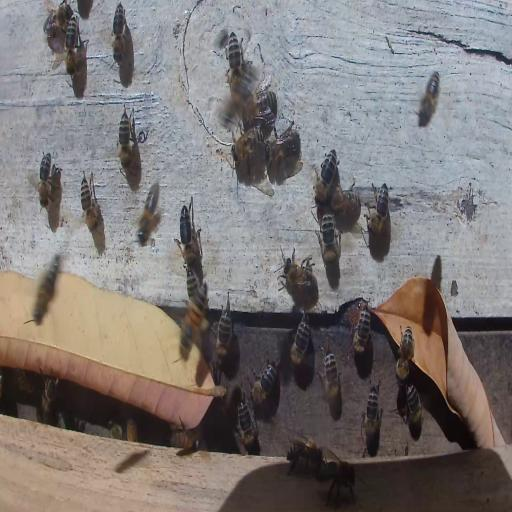nonpollenbee: (250, 346, 281, 408), (321, 455, 360, 504), (285, 431, 321, 476), (177, 202, 200, 270), (239, 86, 278, 126), (266, 127, 301, 169), (234, 398, 260, 454), (316, 210, 340, 270), (80, 171, 102, 236), (280, 258, 317, 296), (313, 150, 338, 203), (366, 181, 390, 236), (418, 70, 440, 125), (362, 384, 382, 444), (322, 347, 342, 407), (350, 304, 373, 354), (289, 314, 311, 366), (328, 178, 358, 216), (231, 129, 256, 174), (226, 34, 246, 89), (396, 325, 414, 382), (216, 300, 233, 359), (64, 16, 80, 78), (111, 2, 126, 66), (118, 106, 132, 174), (405, 382, 424, 432), (43, 4, 73, 34), (185, 270, 205, 315), (40, 376, 60, 420), (38, 150, 52, 208), (172, 430, 199, 454), (106, 420, 124, 438), (126, 417, 138, 442), (54, 410, 66, 427)
pollenbee: (179, 282, 208, 365), (32, 252, 63, 328), (136, 179, 162, 248)
